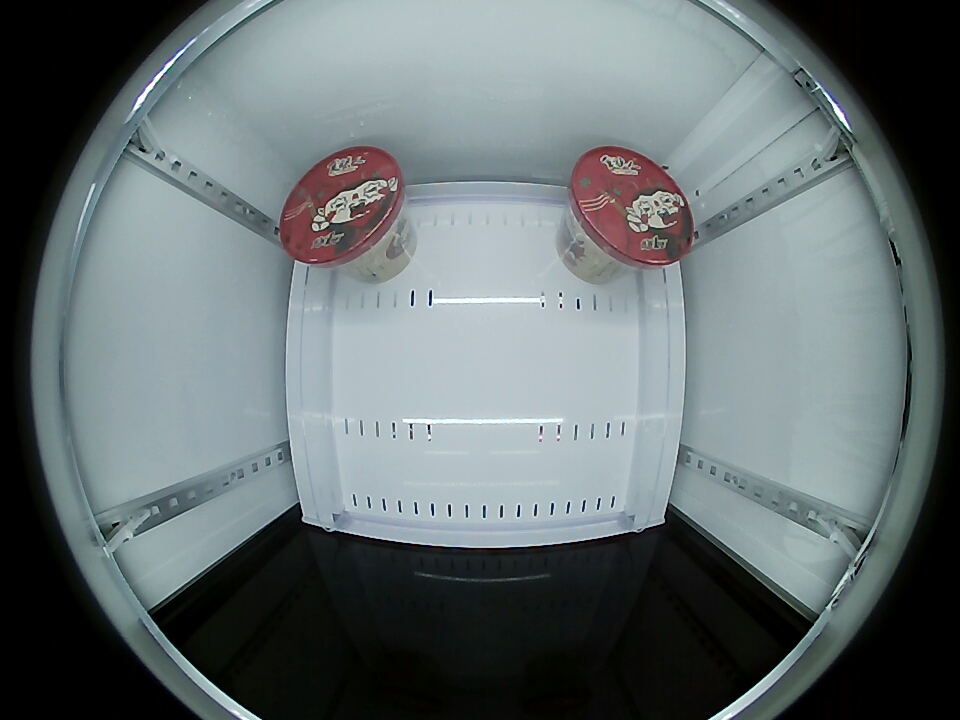suanlafen: (279, 147, 407, 268), (567, 147, 694, 268)
